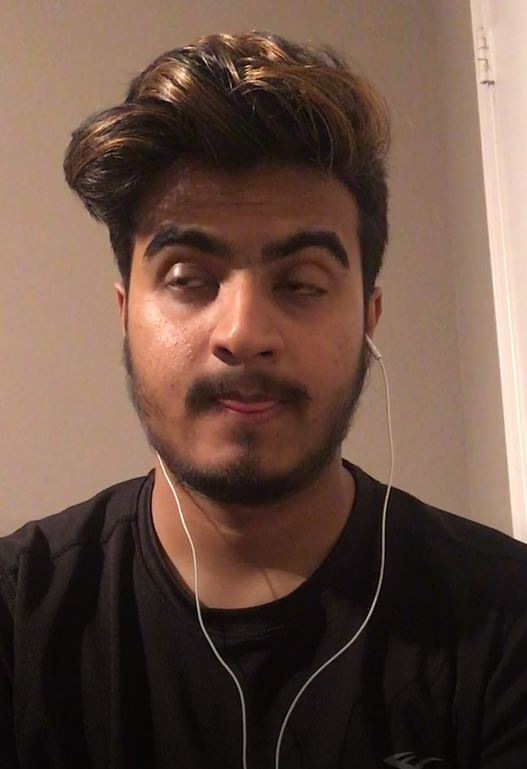Half Asleep: (133, 228, 367, 317)
